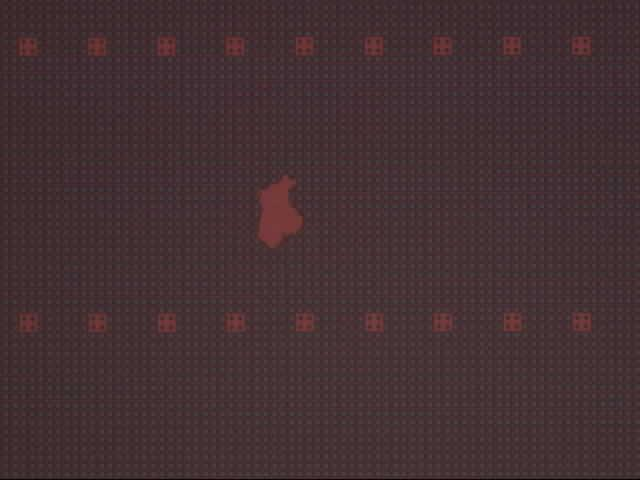BLOCK ETCH: (253, 171, 310, 255)
